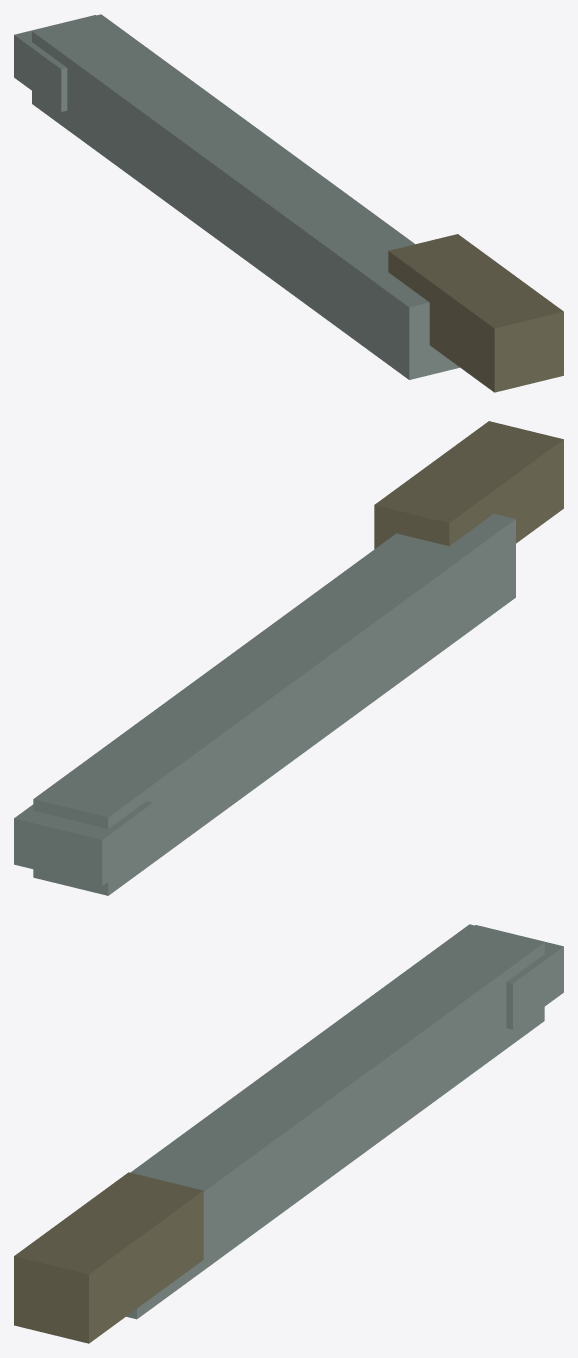
Rendered from SM_Semaforo_v4_Caido_LOD1.fbx.
The picture shows the model from 3 angles, top to bottom: view 1: azimuth 30°, elevation 25°; view 2: azimuth 150°, elevation 25°; view 3: azimuth 330°, elevation 25°; orthographic projection. The views are drawn at different scales.
Visible parts, largest first — view 1: SM_urbano_extra_v24_LOD1; view 2: SM_urbano_extra_v24_LOD1; view 3: SM_urbano_extra_v24_LOD1.
Part boxes in pixels (x1,y1,x2,y2): SM_urbano_extra_v24_LOD1: (14,14,563,392); SM_urbano_extra_v24_LOD1: (14,421,563,895); SM_urbano_extra_v24_LOD1: (14,924,563,1343).
Size of the model in its own units: 0.47 by 0.44 by 3.85.
